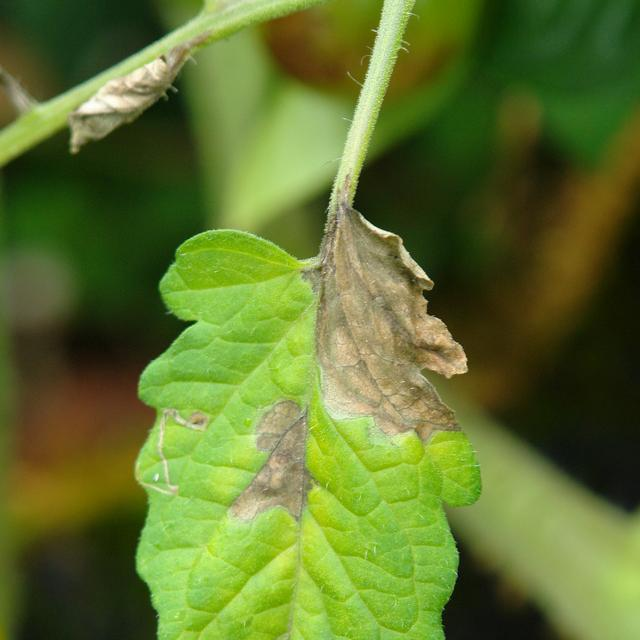Tomato leaf late blight: (122, 205, 490, 640)
